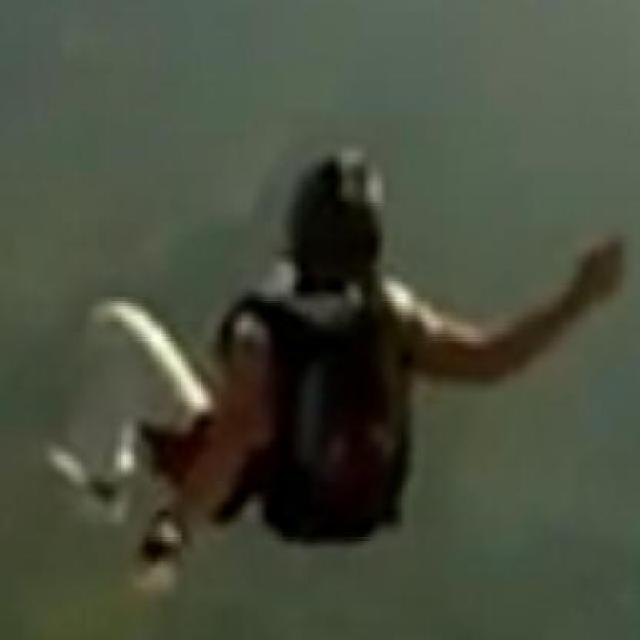fall: (47, 122, 611, 586)
